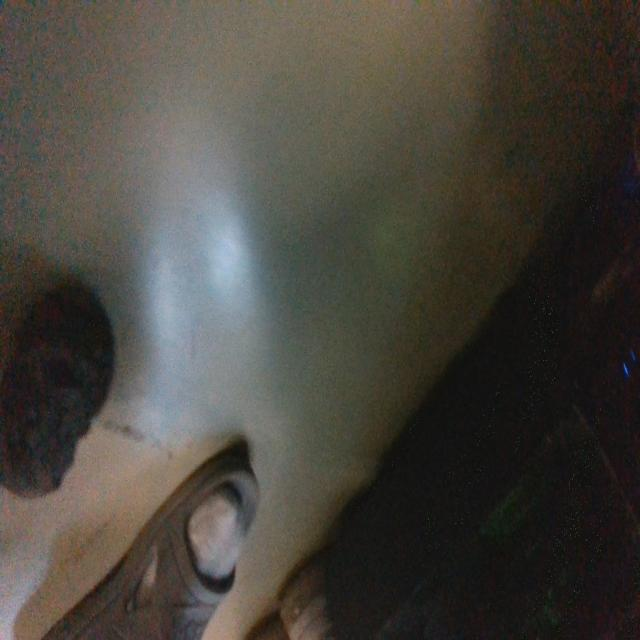stone: (0, 285, 116, 503)
